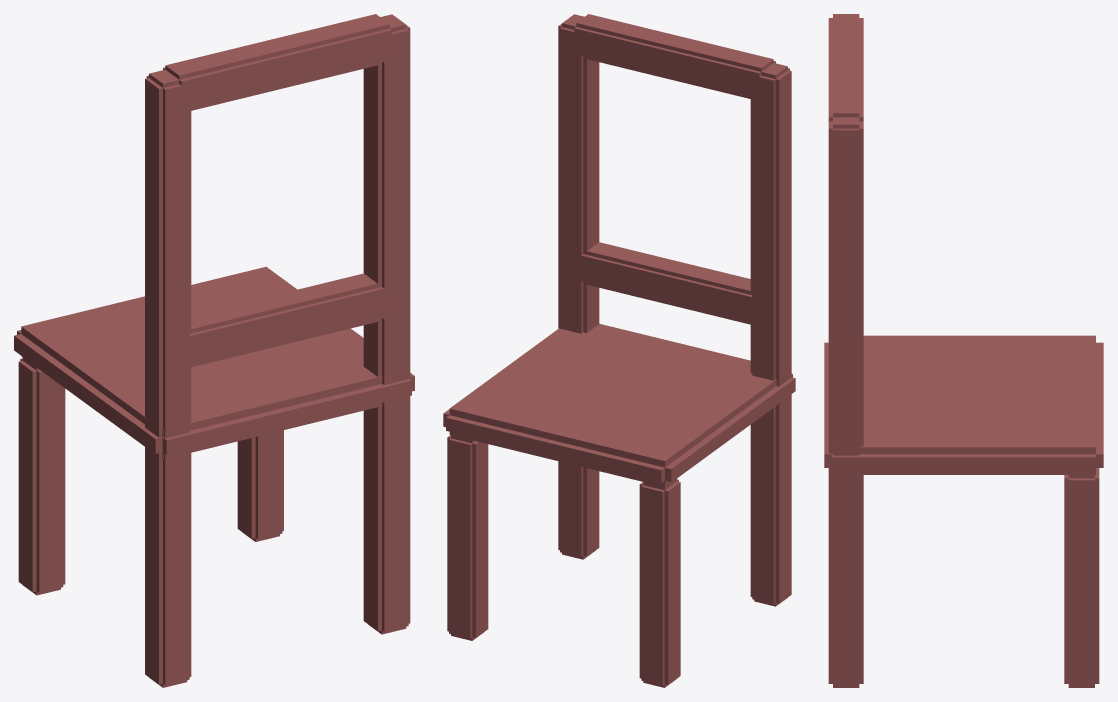
Rendered from shadewood_chair_v0.glb.
3 renders of one model, left to right at view 1: azimuth 30°, elevation 25°; view 2: azimuth 150°, elevation 25°; view 3: azimuth 270°, elevation 25°, orthographic. The views are drawn at different scales.
Parts seen in each view (by area): view 1: shadewood_chair_v0; view 2: shadewood_chair_v0; view 3: shadewood_chair_v0.
Part boxes in pixels (x1,y1,x2,y2): shadewood_chair_v0: (14, 14, 414, 687); shadewood_chair_v0: (443, 14, 795, 687); shadewood_chair_v0: (824, 14, 1103, 687).
Bounding box in the file's own units: 0.64 × 1.43 × 0.64.
